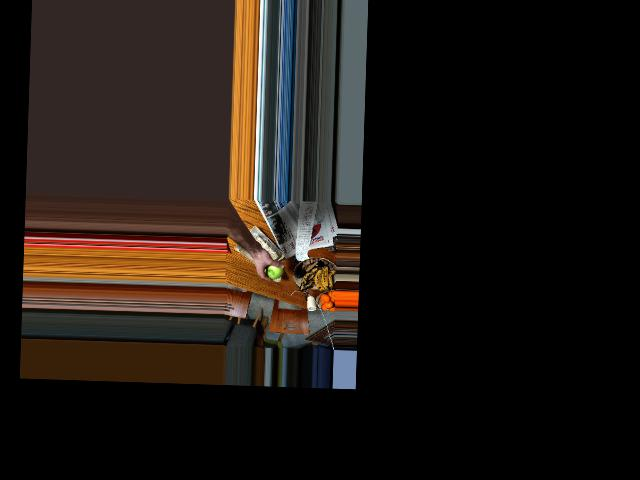apple: (264, 259, 284, 280)
